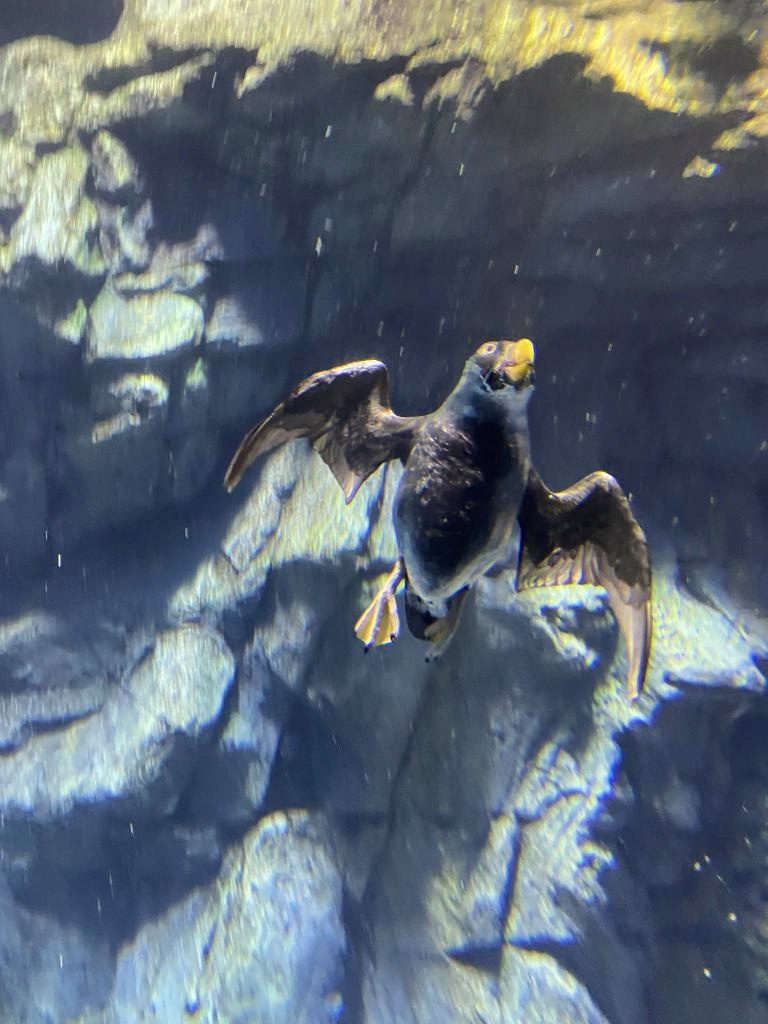puffin: (223, 310, 673, 704)
